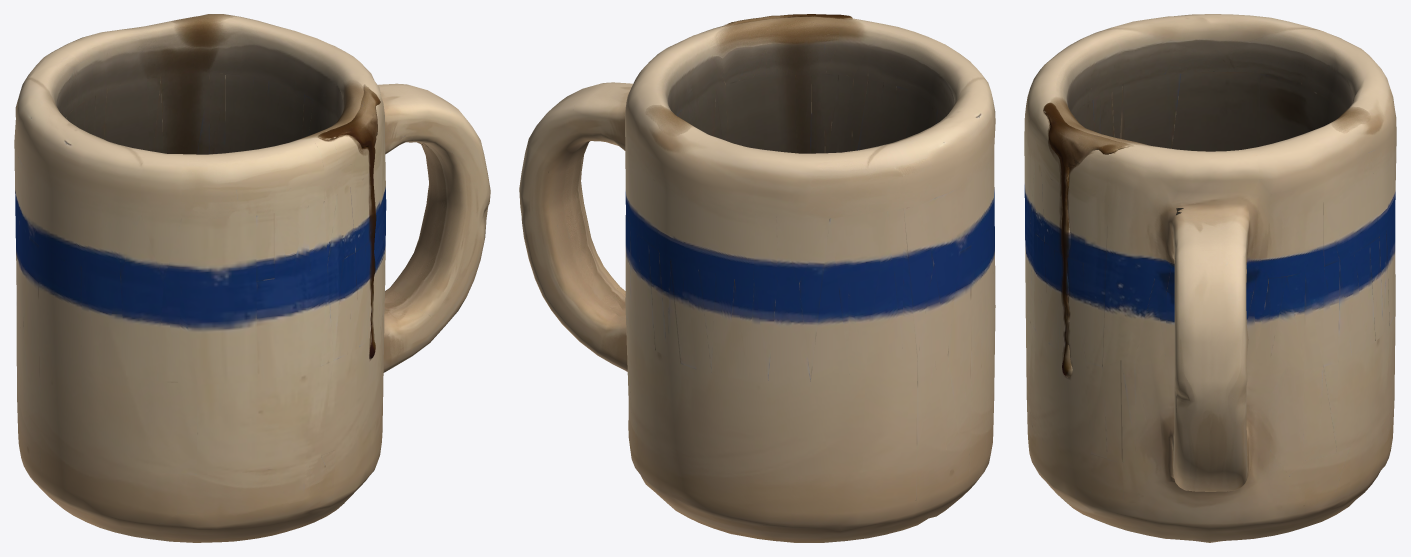
The model's file is coffee_mug.glb.
3 renders of one model, left to right at view 1: azimuth 30°, elevation 25°; view 2: azimuth 150°, elevation 25°; view 3: azimuth 270°, elevation 25°, orthographic.
Bounding box in the file's own units: 0.9551 × 0.8232 × 0.6948.
Materials: 1 (1 with a texture image).
